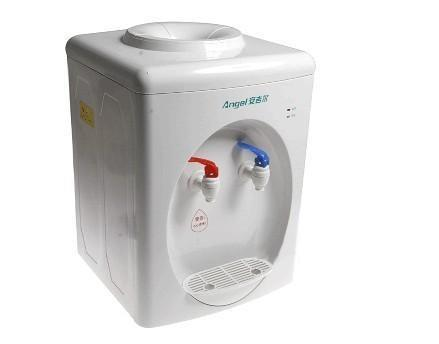Dispenser: (64, 19, 315, 328)
